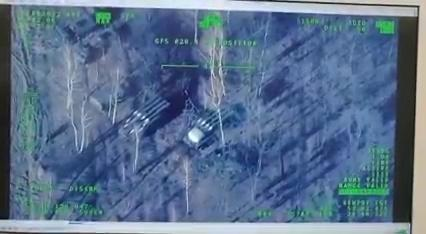rszo: (118, 94, 171, 142), (183, 104, 234, 150)
